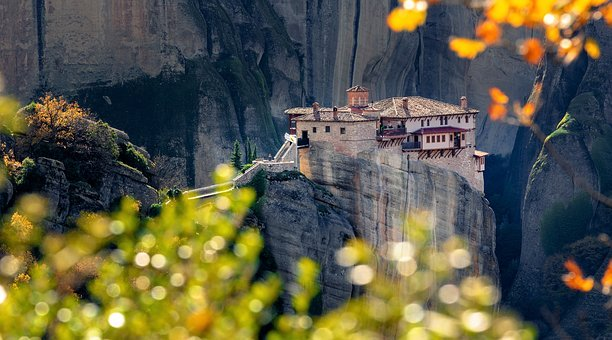house: (283, 78, 491, 189)
mountain: (22, 14, 612, 340)
